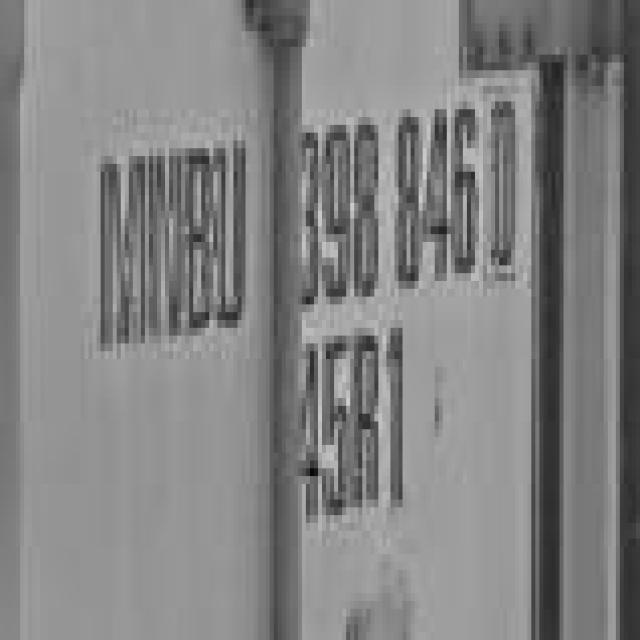dv: (486, 90, 522, 288)
owner: (91, 113, 252, 363)
serial: (289, 96, 479, 300)
size: (288, 319, 414, 529)
